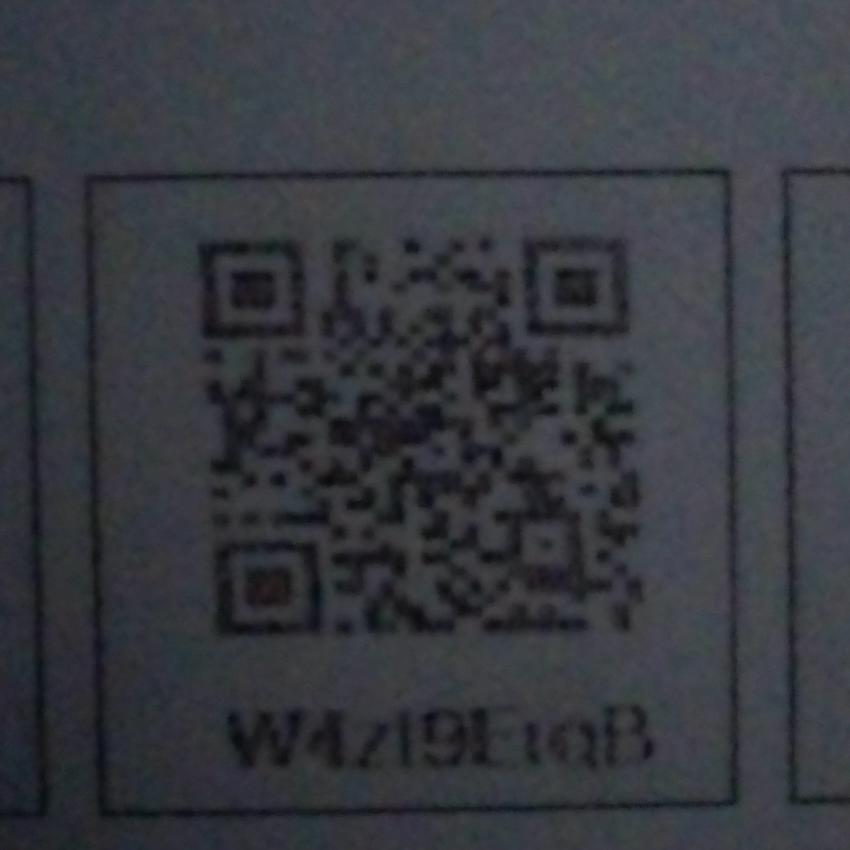QR-CODE: (180, 217, 660, 657)
